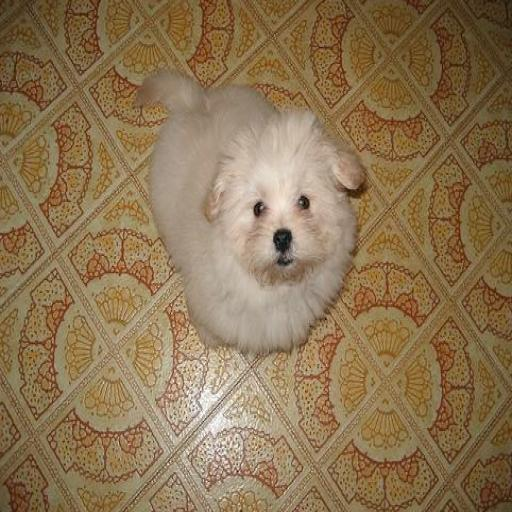dog_face: (203, 125, 367, 282)
